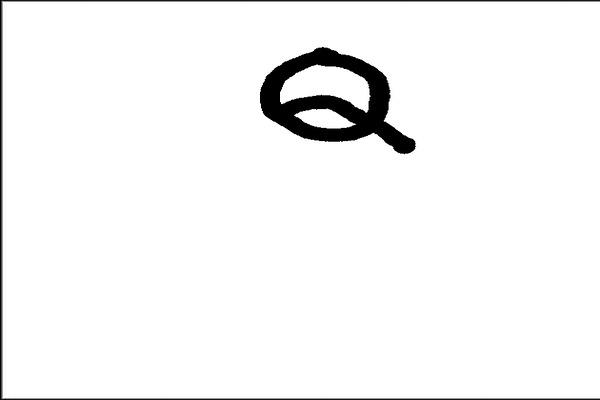Q: (249, 43, 421, 165)
